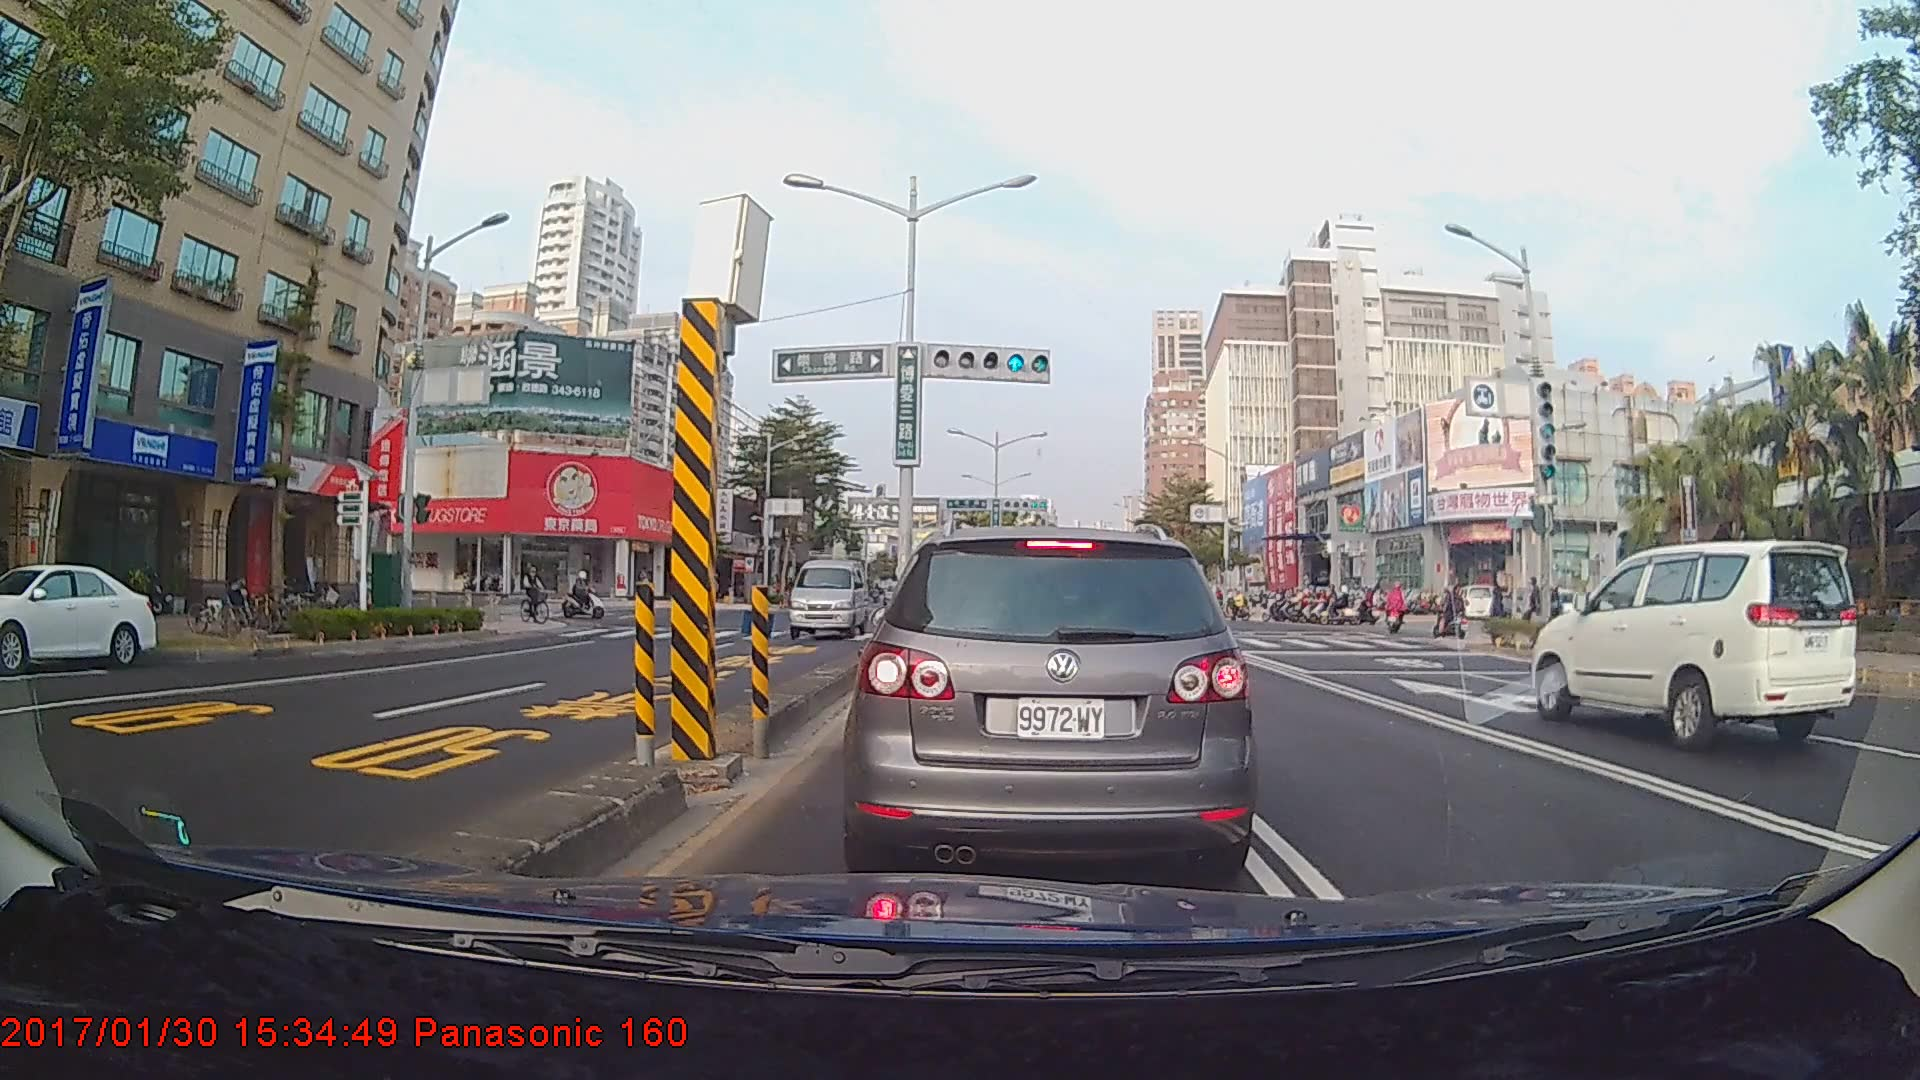pedestrian: (1490, 579, 1512, 637)
rider: (563, 568, 614, 625), (518, 559, 557, 629), (1436, 582, 1473, 646), (1385, 580, 1410, 640)
vehicle: (854, 520, 1251, 881), (1529, 536, 1858, 752), (0, 561, 159, 671), (786, 548, 872, 639)
